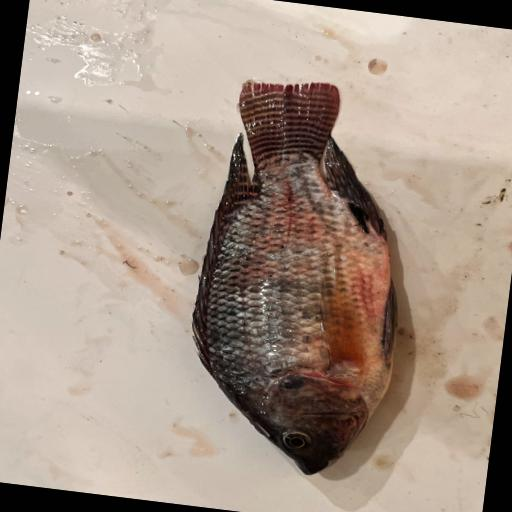Tilapia: (175, 71, 427, 485)
